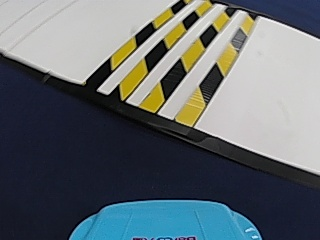bump: (89, 6, 252, 114)
